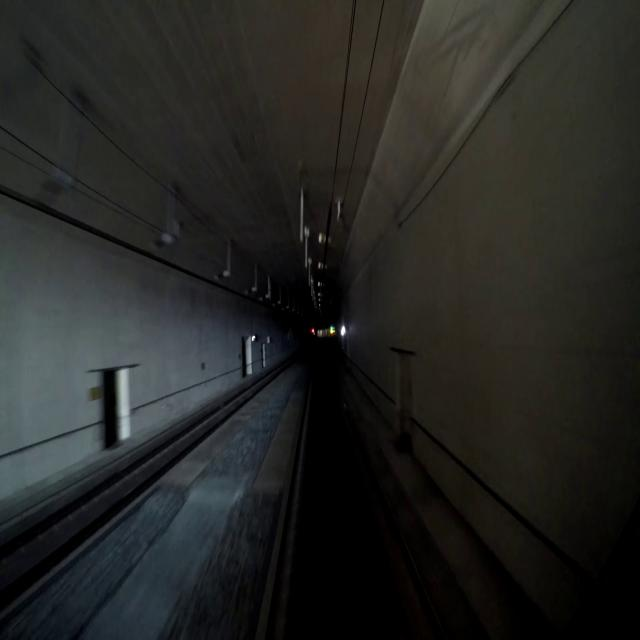rail-track: (0, 379, 266, 588), (282, 378, 443, 639)
